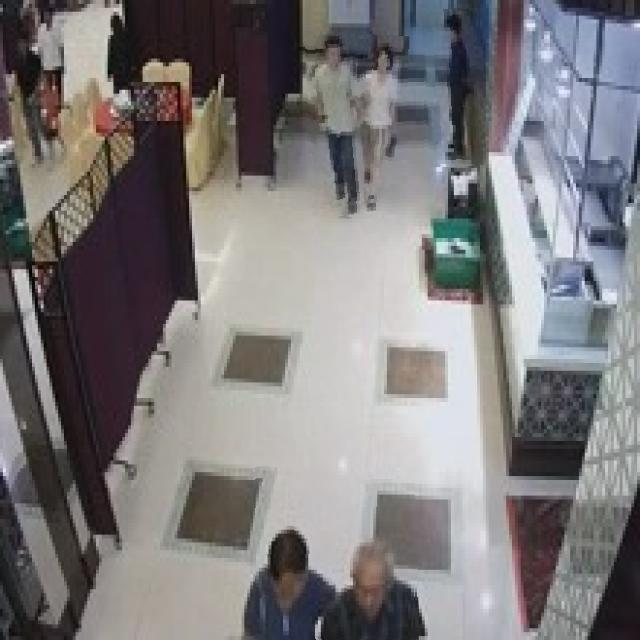normal: (332, 439, 418, 640), (255, 441, 338, 640), (307, 32, 365, 217), (424, 8, 485, 167), (357, 34, 407, 214)
